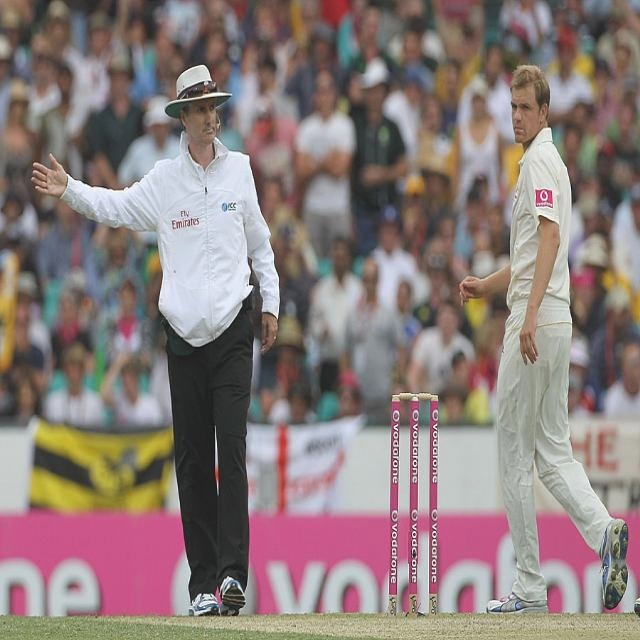No_Ball: (28, 55, 284, 615)
